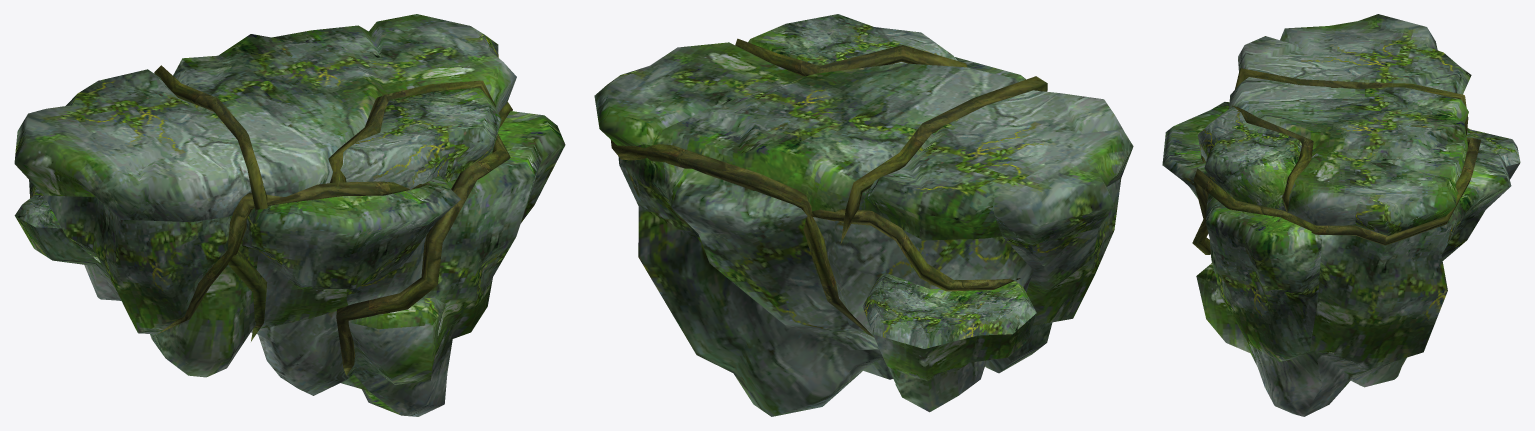
File: environment_Building_bangpai_001_d.FBX
3 renders of one model, left to right at view 1: azimuth 30°, elevation 25°; view 2: azimuth 150°, elevation 25°; view 3: azimuth 270°, elevation 25°, orthographic. The views are drawn at different scales.
Parts seen in each view (by area): view 1: environment_Building_bangpai_001_d02, environment_Building_bangpai_001_d03, environment_Building_bangpai_001_d01; view 2: environment_Building_bangpai_001_d03, environment_Building_bangpai_001_d02, environment_Building_bangpai_001_d01; view 3: environment_Building_bangpai_001_d03, environment_Building_bangpai_001_d02, environment_Building_bangpai_001_d01.
Boxes of the visible parts, x1,y1,x2,y2 form: environment_Building_bangpai_001_d02: (15, 111, 565, 416); environment_Building_bangpai_001_d03: (14, 14, 516, 228); environment_Building_bangpai_001_d01: (154, 65, 512, 375); environment_Building_bangpai_001_d03: (594, 14, 1133, 348); environment_Building_bangpai_001_d02: (618, 57, 1121, 416); environment_Building_bangpai_001_d01: (611, 38, 1047, 336); environment_Building_bangpai_001_d03: (1198, 14, 1520, 235); environment_Building_bangpai_001_d02: (1162, 102, 1519, 416); environment_Building_bangpai_001_d01: (1192, 68, 1481, 254).
Size of the model in its own units: 1369 by 1057 by 884.
